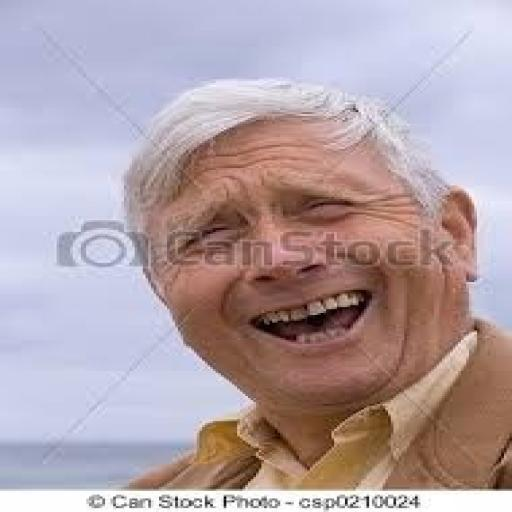laughing: (113, 76, 496, 412)
